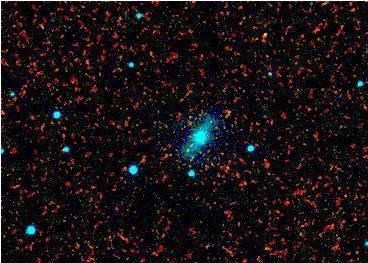star: (249, 19, 279, 49)
